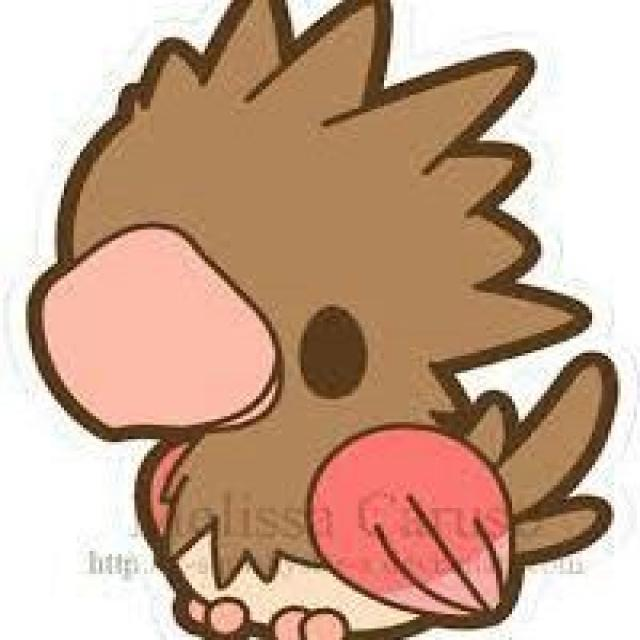Spearow: (31, 4, 599, 640)
